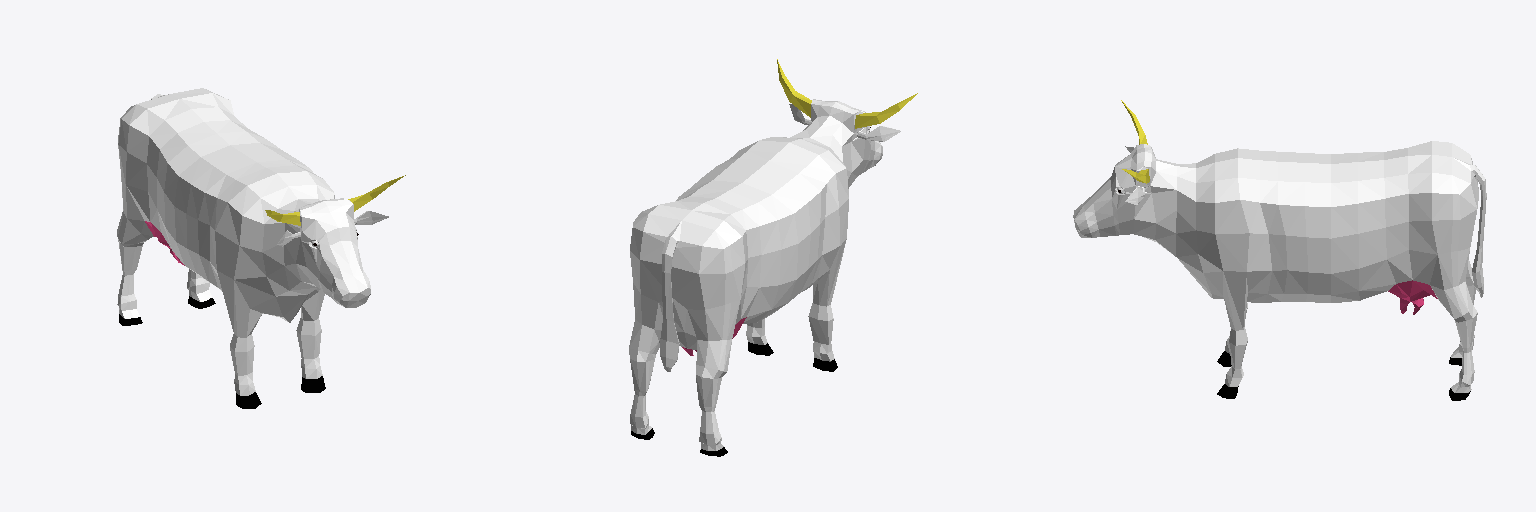
File: Cow.obj
The picture shows the model from 3 angles: view 1: azimuth 30°, elevation 25°; view 2: azimuth 150°, elevation 25°; view 3: azimuth 270°, elevation 25°; orthographic projection.
Parts seen in each view (by area): view 1: Cow; view 2: Cow; view 3: Cow.
Part boxes in pixels (bbox=[...]): Cow: bbox=[117, 88, 405, 408]; Cow: bbox=[629, 59, 917, 456]; Cow: bbox=[1073, 100, 1486, 400].
Size of the model in its own units: 0.91 by 1.5 by 2.3.